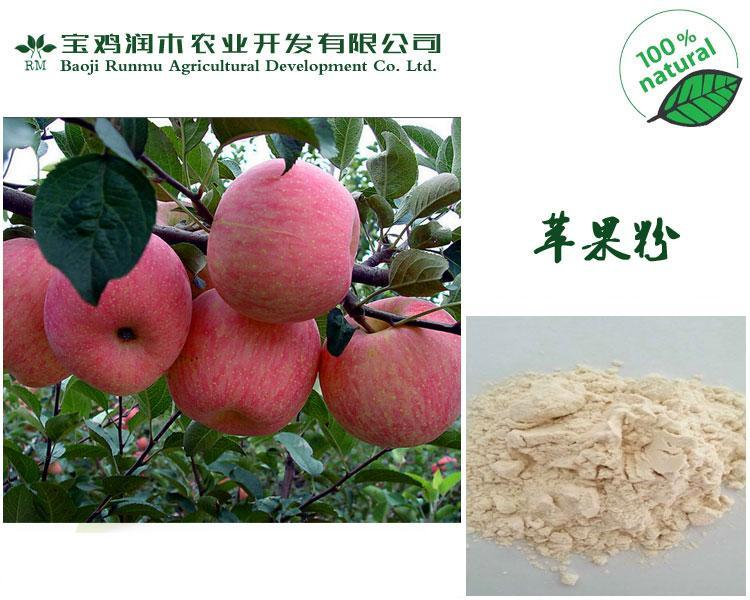apple: (42, 231, 195, 400), (204, 156, 358, 322), (166, 290, 321, 440), (318, 303, 461, 449)
